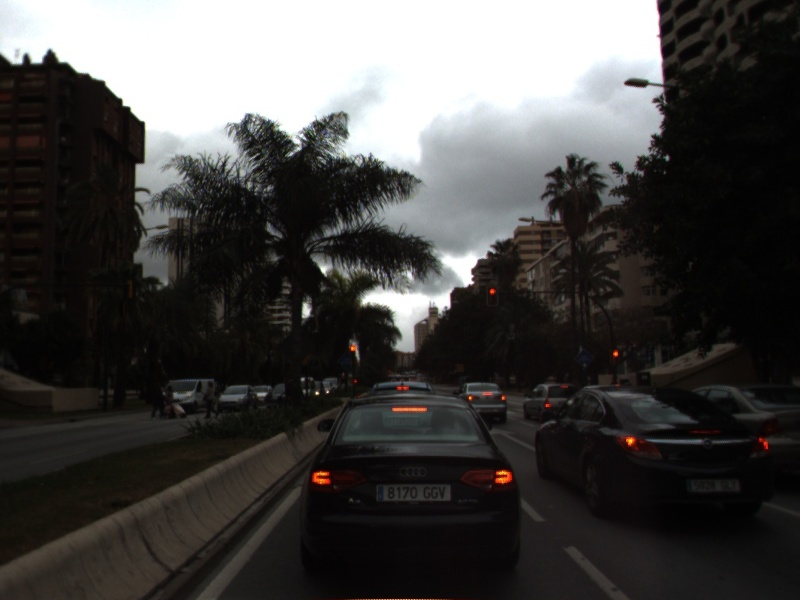STRAIGHT: (489, 424, 537, 452)
